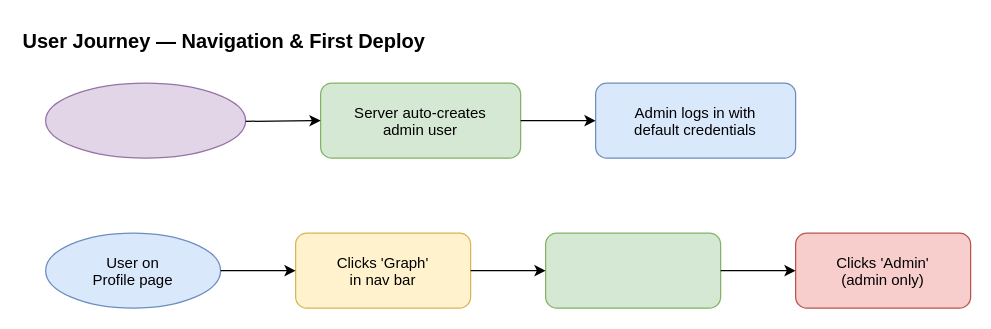
Image size: 991x329. Some labels were removed from this diagram. Each missing label, with the centre of its shape:
DevOps deploys server (first time): the point at 145,120
Graph Viewer loads with nav: the point at 632,270
